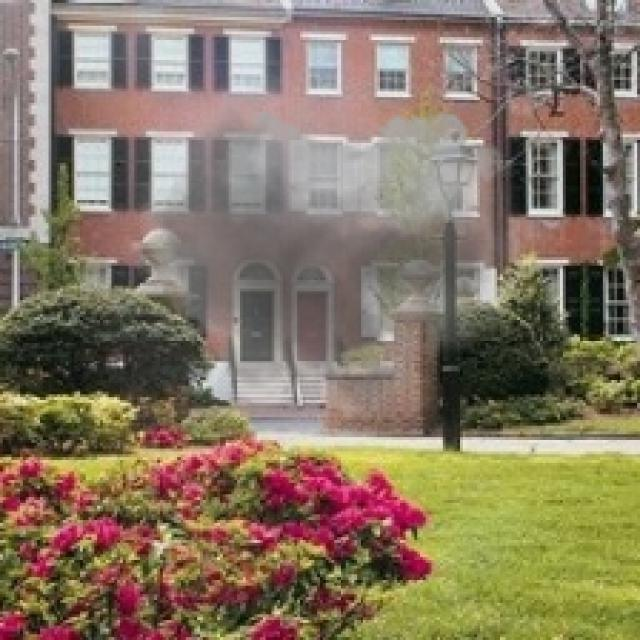smoke: (120, 29, 529, 440)
